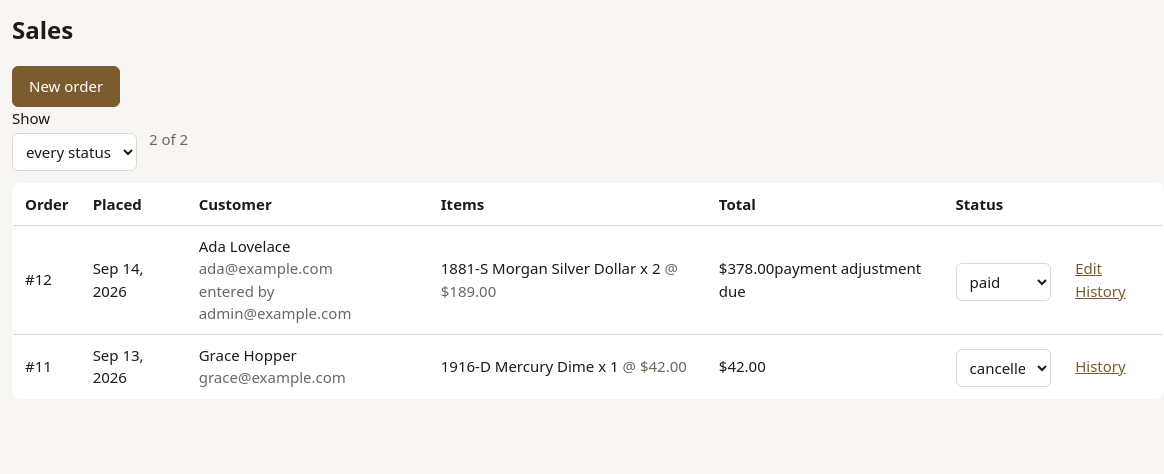
Test: owner Orders › shows a refusal without losing the list, and reads the page again
Expected: the text "Ada Lovelace" is shown, [199, 236, 290, 256]
Select "packed" in the dropdown named "Status of order 12". click: (1003, 282)
box: [956, 262, 1051, 300]
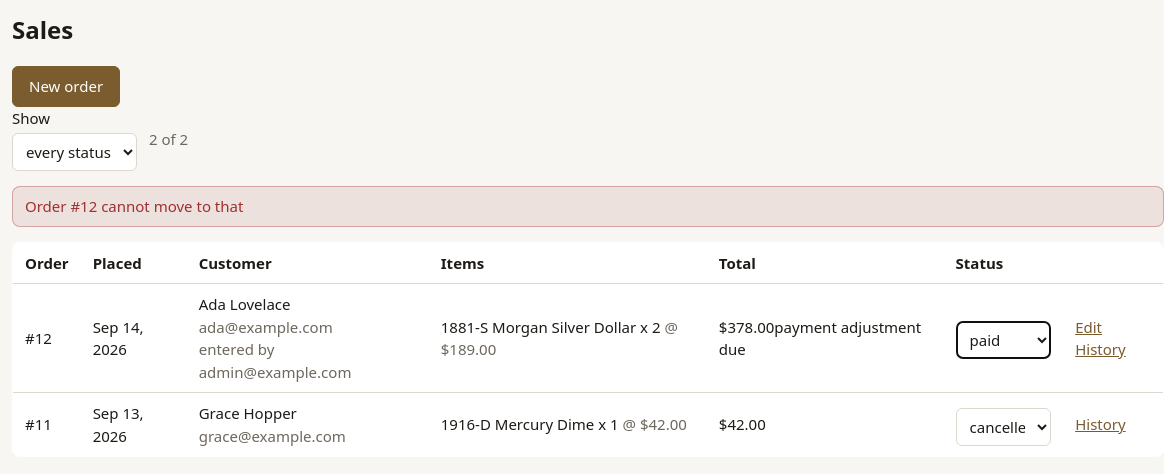
Expected: the text "Grace Hopper" is shown, [199, 403, 297, 423]
Now the text "Order #12 cannot move to that" is shown, box [12, 186, 1163, 226]
